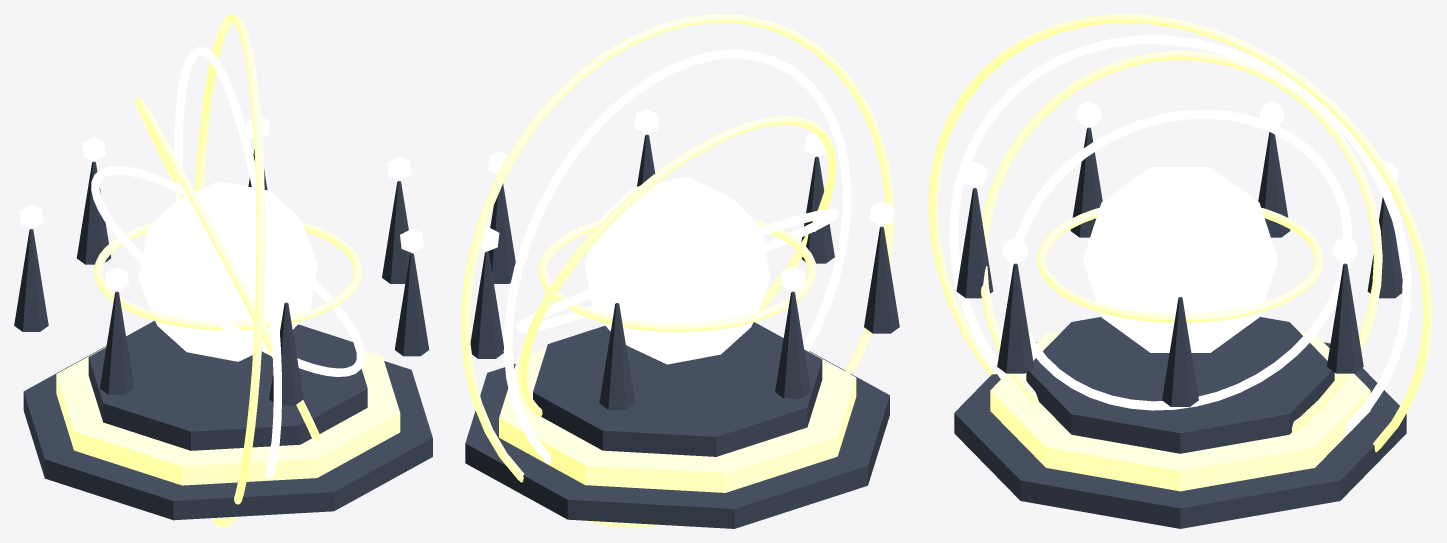
File: gpu-blender-v5.glb
The picture shows the model from 3 angles, left to right: view 1: azimuth 30°, elevation 25°; view 2: azimuth 150°, elevation 25°; view 3: azimuth 270°, elevation 25°; orthographic projection. The views are drawn at different scales.
Parts seen in each view (by area): view 1: Cylinder.002, Cylinder, SovereignCore_zoth-bot, Cylinder.001, Torus.004, Torus.003, Torus.001, Torus, Torus.002, Cone.006, Cone.004, Cone.003 (+3 smaller); view 2: Cylinder.002, SovereignCore_zoth-bot, Cylinder, Cylinder.001, Torus.004, Torus.003, Torus.002, Torus.001, Torus, Cone.004, Cone.003, Cone.002 (+4 smaller); view 3: SovereignCore_zoth-bot, Cylinder.002, Cylinder, Cylinder.001, Torus.004, Torus.003, Torus.002, Torus.001, Torus, Cone.001, Cone.006, Cone (+4 smaller).
Boxes of the visible parts, left/top/right/bottom form: Cylinder.002: left=88, top=321, right=367, bottom=450; Cylinder: left=23, top=346, right=432, bottom=520; SovereignCore_zoth-bot: left=139, top=181, right=317, bottom=361; Cylinder.001: left=56, top=328, right=400, bottom=485; Torus.004: left=195, top=14, right=265, bottom=528; Torus.003: left=174, top=46, right=281, bottom=480; Torus.001: left=91, top=166, right=365, bottom=376; Torus: left=94, top=222, right=362, bottom=330; Torus.002: left=135, top=97, right=320, bottom=440; Cone.006: left=394, top=253, right=429, bottom=356; Cone.004: left=100, top=291, right=134, bottom=394; Cone.003: left=14, top=229, right=48, bottom=331; Cylinder.002: left=533, top=322, right=822, bottom=456; SovereignCore_zoth-bot: left=585, top=177, right=770, bottom=364; Cylinder: left=465, top=351, right=889, bottom=528; Cylinder.001: left=499, top=330, right=856, bottom=492; Torus.004: left=461, top=14, right=894, bottom=527; Torus.003: left=503, top=49, right=851, bottom=463; Torus.002: left=518, top=116, right=836, bottom=417; Torus.001: left=516, top=208, right=838, bottom=332; Torus: left=538, top=219, right=816, bottom=332; Cone.004: left=864, top=226, right=899, bottom=333; Cone.003: left=775, top=291, right=810, bottom=398; Cone.002: left=599, top=303, right=634, bottom=409; SovereignCore_zoth-bot: left=1083, top=167, right=1277, bottom=352; Cylinder.002: left=1026, top=317, right=1334, bottom=453; Cylinder: left=954, top=342, right=1406, bottom=528; Cylinder.001: left=990, top=330, right=1370, bottom=491; Torus.004: left=928, top=14, right=1432, bottom=452; Torus.003: left=949, top=35, right=1411, bottom=434; Torus.002: left=981, top=50, right=1382, bottom=433; Torus.001: left=1008, top=109, right=1352, bottom=410; Torus: left=1037, top=207, right=1323, bottom=322; Cone.001: left=1327, top=263, right=1363, bottom=373; Cone.006: left=997, top=263, right=1033, bottom=373; Cone: left=1162, top=297, right=1198, bottom=406.
Size of the model in its own units: 4.41 by 5.33 by 4.9.
